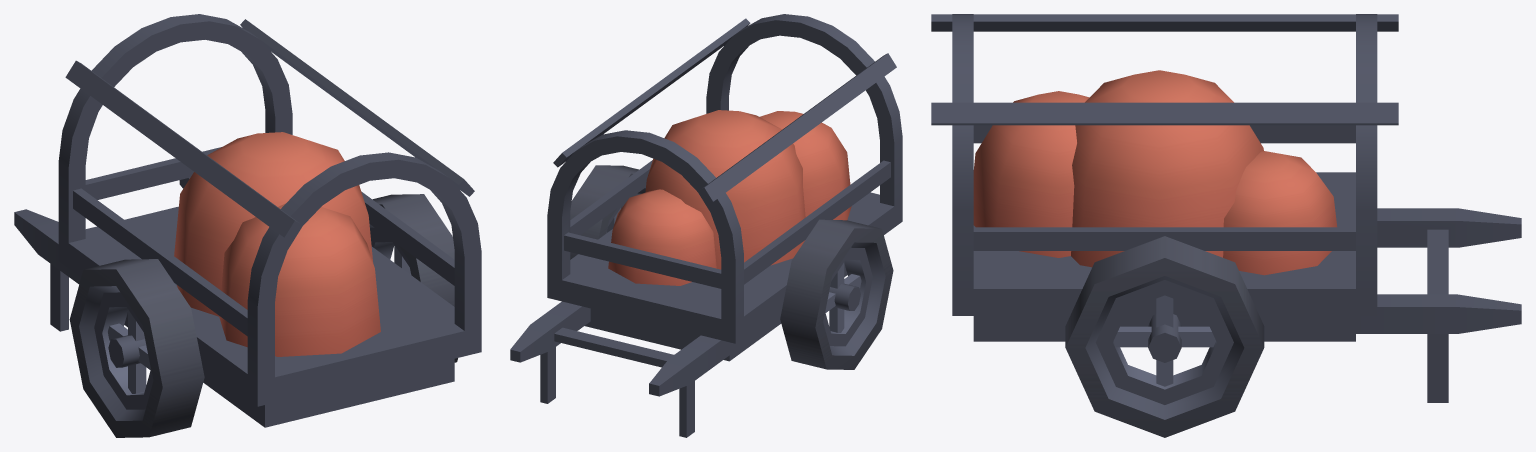
The model's file is cart-high.glb.
3 views of the same model, side by side, from view 1: azimuth 30°, elevation 25°; view 2: azimuth 150°, elevation 25°; view 3: azimuth 270°, elevation 25° (orthographic). The views are drawn at different scales.
Parts seen in each view (by area): view 1: cart-high, Group, Group2; view 2: cart-high, Group, Group2; view 3: cart-high, Group2.
Part boxes in pixels (x1,y1,x2,y2): cart-high: (14,14,481,427); Group: (69,259,204,437); Group2: (369,194,457,362); cart-high: (510,14,902,437); Group: (780,219,893,369); Group2: (570,165,645,259); cart-high: (931,14,1521,402); Group2: (1065,236,1264,437).
Size of the model in its own units: 0.893 by 0.8605 by 1.39.
1 material, 1 textured.
